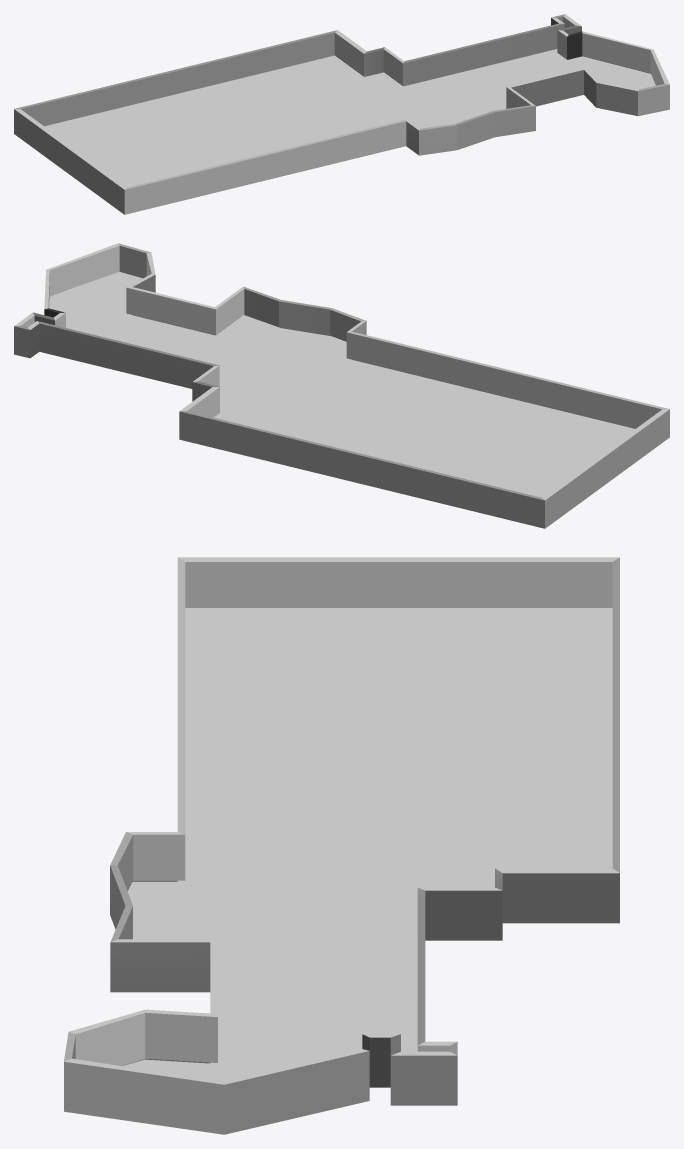
File: grashofEtage1.dae
The picture shows the model from 3 angles, top to bottom: view 1: azimuth 30°, elevation 25°; view 2: azimuth 150°, elevation 25°; view 3: azimuth 270°, elevation 25°; orthographic projection. The views are drawn at different scales.
Visible parts, largest first — view 1: Mesh_005; view 2: Mesh_005; view 3: Mesh_005.
Part boxes in pixels (left/top/right/bottom): Mesh_005: left=14, top=14, right=669, bottom=214; Mesh_005: left=14, top=243, right=669, bottom=528; Mesh_005: left=64, top=557, right=619, bottom=1134.
Bounding box in the file's own units: 49.27 × 21.95 × 2.18.
